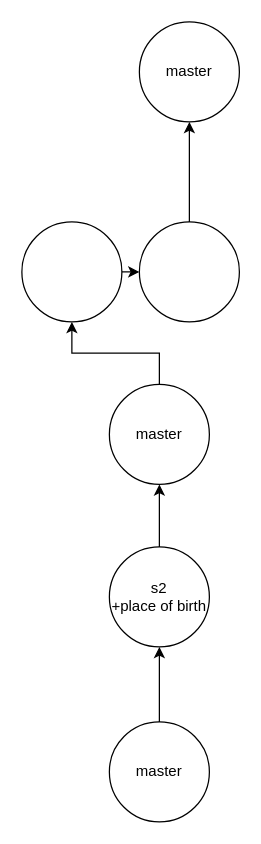
The diagram is 261 pixels wide and 844 high, and some of its shapes have lost their labels. Each missing label, with the centre of its shape:
"s1 +new hobby" belongs at [71,271].
"s1 +school info" belongs at [188,271].
